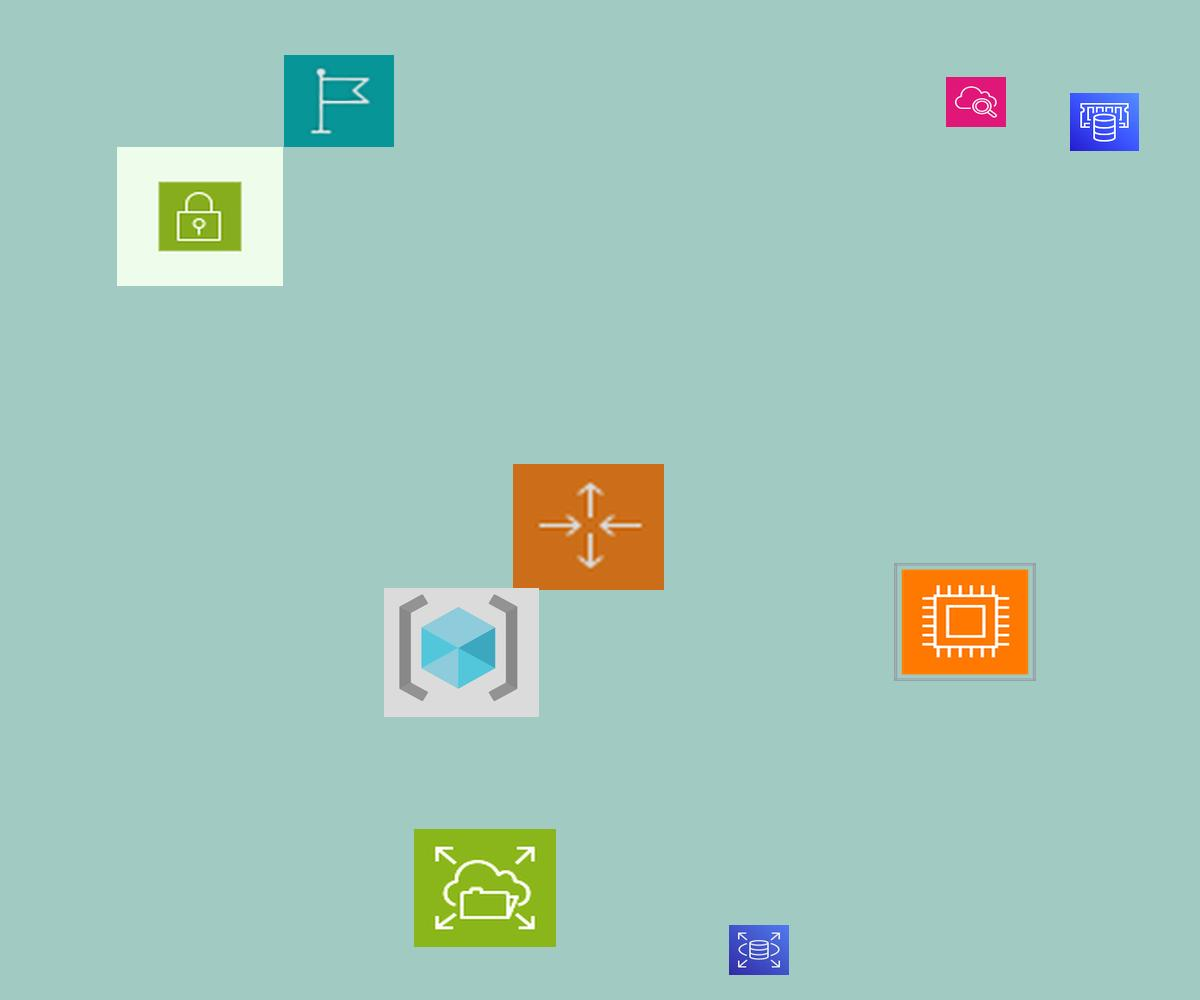AWS-Category_Compute: (894, 563, 1036, 681)
AWS-CloudWatch: (946, 77, 1006, 127)
AWS-EFS: (414, 829, 556, 947)
AWS-ElastiCache: (1070, 93, 1139, 151)
AWS-Public-subnet: (117, 147, 283, 286)
AWS-RDS: (729, 925, 789, 975)
AWS-Region: (284, 55, 394, 147)
AWS-Scaling-group: (513, 464, 664, 590)
Azure_resource_group: (384, 588, 539, 717)
